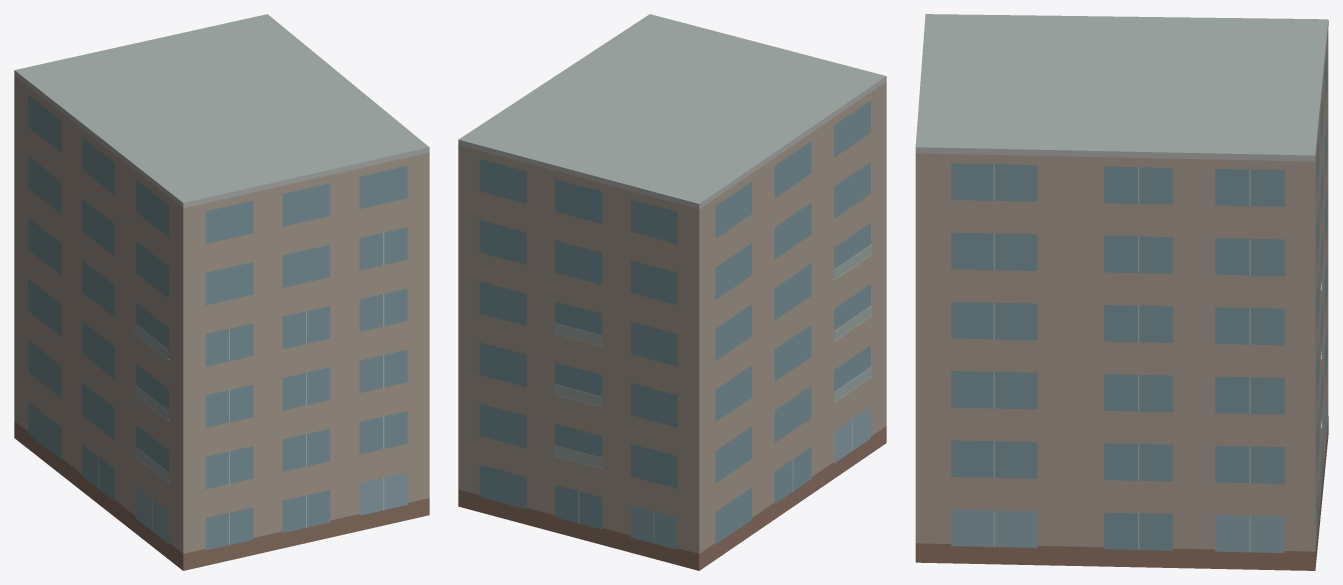
Rendered from survey-upis-32921458.glb.
3 views of the same model, side by side, from view 1: azimuth 30°, elevation 25°; view 2: azimuth 150°, elevation 25°; view 3: azimuth 270°, elevation 25° (orthographic). The views are drawn at different scales.
Parts seen in each view (by area): view 1: survey-upis-32921458.tmp; view 2: survey-upis-32921458.tmp; view 3: survey-upis-32921458.tmp.
Part boxes in pixels (box(x1,y1,x2,y2)): survey-upis-32921458.tmp: box(14, 14, 429, 570); survey-upis-32921458.tmp: box(458, 14, 886, 570); survey-upis-32921458.tmp: box(915, 14, 1328, 570).
Size of the model in its own units: 12.21 by 16.7 by 15.05.
